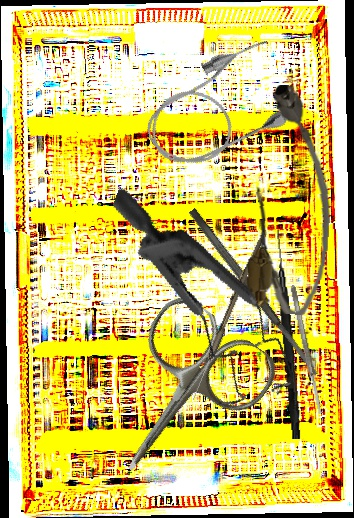Cannula: (129, 31, 306, 184), (245, 83, 339, 317)
Hook Surgical: (270, 229, 304, 440)
Iris Scissors: (74, 288, 285, 508)
Spatula Surgical: (187, 206, 321, 379), (289, 284, 324, 417)
Speculum: (59, 186, 335, 427)
Surgical Spoon: (190, 236, 263, 402)
